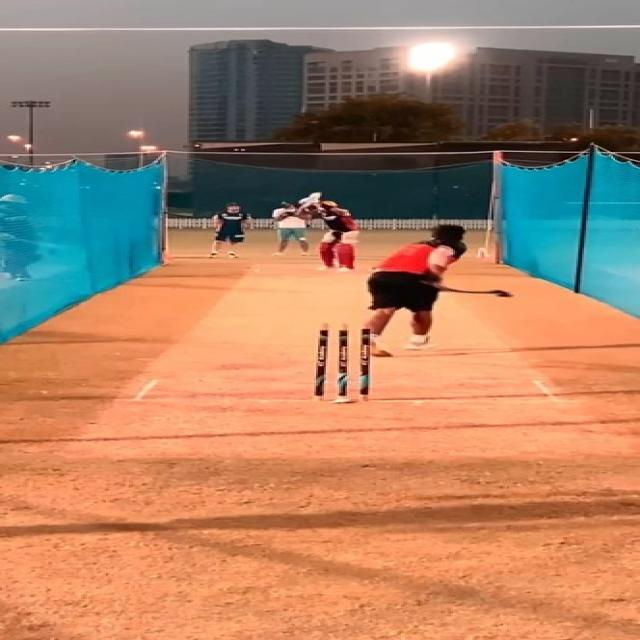batsman: (297, 191, 361, 272)
